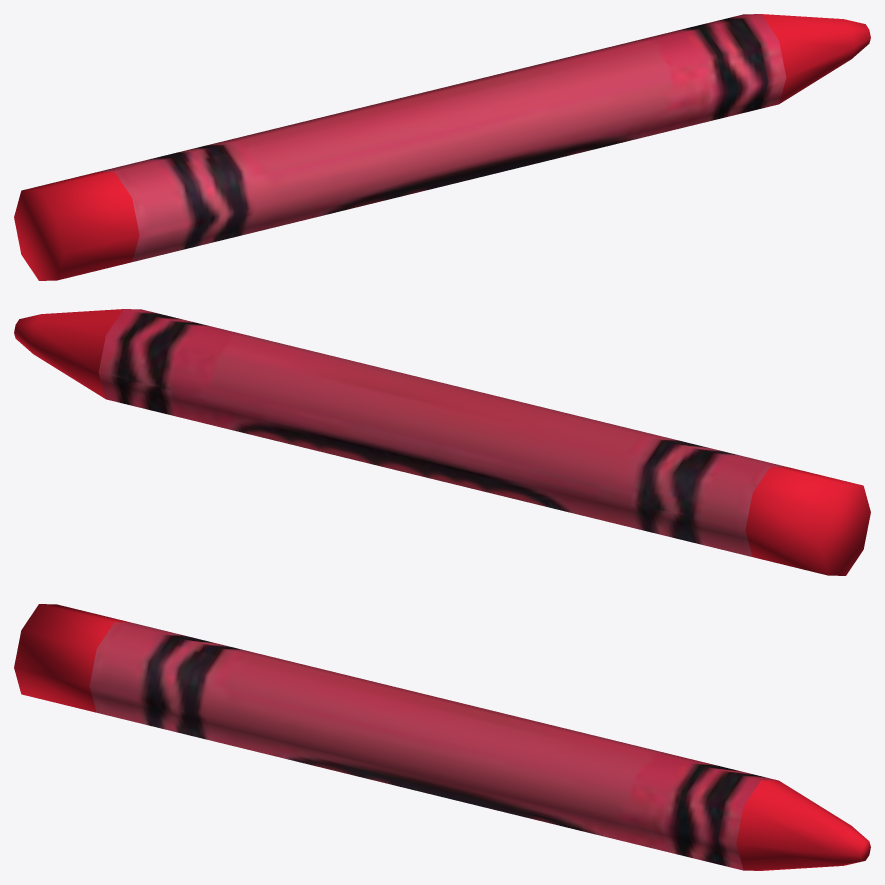
The model's file is crayon.glb.
3 views of the same model, one above another, from view 1: azimuth 30°, elevation 25°; view 2: azimuth 150°, elevation 25°; view 3: azimuth 330°, elevation 25° (orthographic).
Visible parts, largest first — view 1: Crayon; view 2: Crayon; view 3: Crayon.
Part boxes in pixels (bbox=[...]): Crayon: bbox=[14, 14, 870, 280]; Crayon: bbox=[14, 309, 870, 575]; Crayon: bbox=[14, 604, 870, 870].
Bounding box in the file's own units: 0.2748 × 0.0288 × 0.0288.
Materials: 2 (1 with a texture image).
